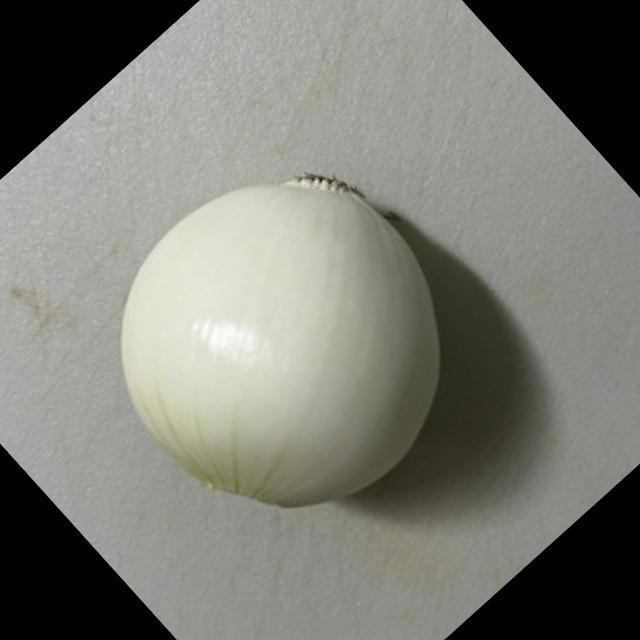Onion: (122, 167, 446, 514)
